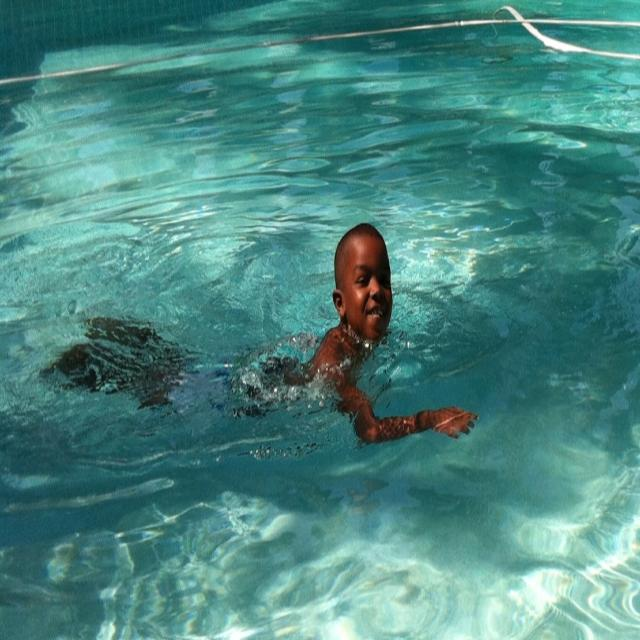swimming: (63, 215, 480, 473)
